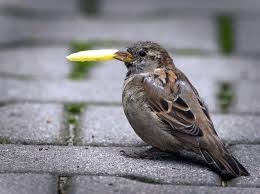hsparrow: (111, 38, 252, 185)
